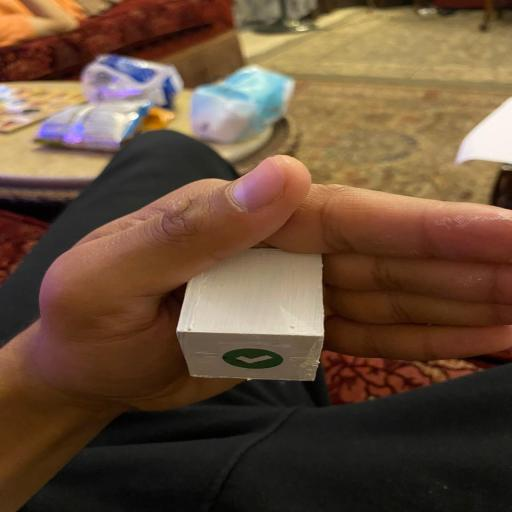Confirm: (176, 247, 328, 382)
